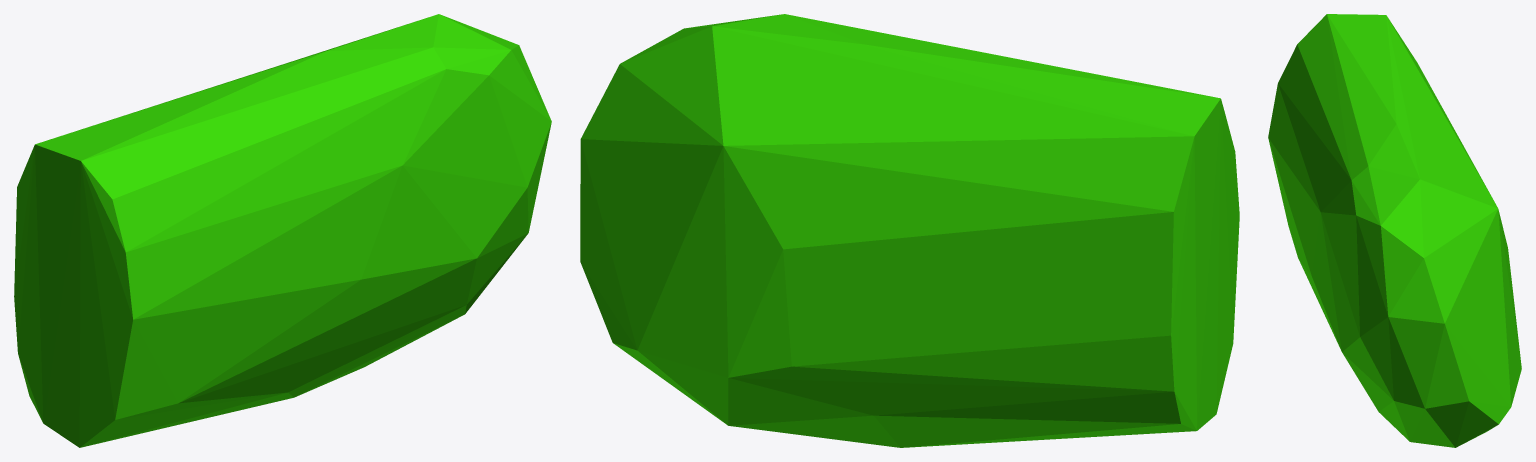
File: arm-L4-mirror_convex_piece_004.obj
The picture shows the model from 3 angles, left to right: view 1: azimuth 30°, elevation 25°; view 2: azimuth 150°, elevation 25°; view 3: azimuth 270°, elevation 25°; orthographic projection. The views are drawn at different scales.
Bounding box in the file's own units: 0.0865 × 0.0539 × 0.0424.
